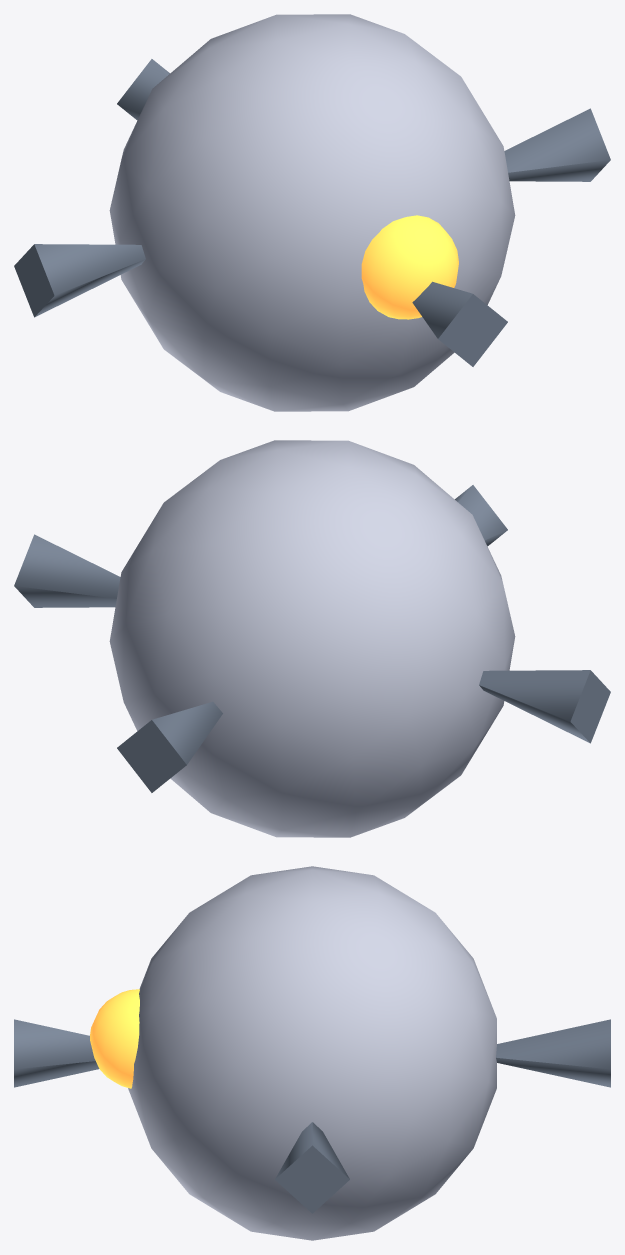
Rendered from metaling.glb.
3 renders of one model, top to bottom at view 1: azimuth 30°, elevation 25°; view 2: azimuth 150°, elevation 25°; view 3: azimuth 270°, elevation 25°, orthographic. The views are drawn at different scales.
Parts seen in each view (by area): view 1: core; view 2: core; view 3: core.
Boxes of the visible parts, bbox=[...] form: core: bbox=[14, 14, 610, 411]; core: bbox=[14, 440, 610, 837]; core: bbox=[14, 866, 610, 1240].
Bounding box in the file's own units: 1.9 × 1.18 × 1.9.
